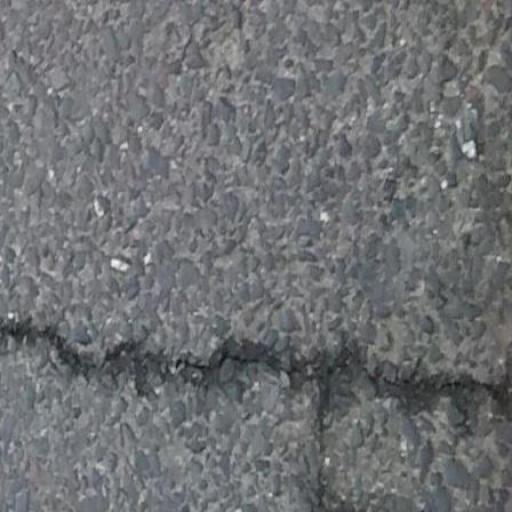spalling: (9, 305, 510, 420)
